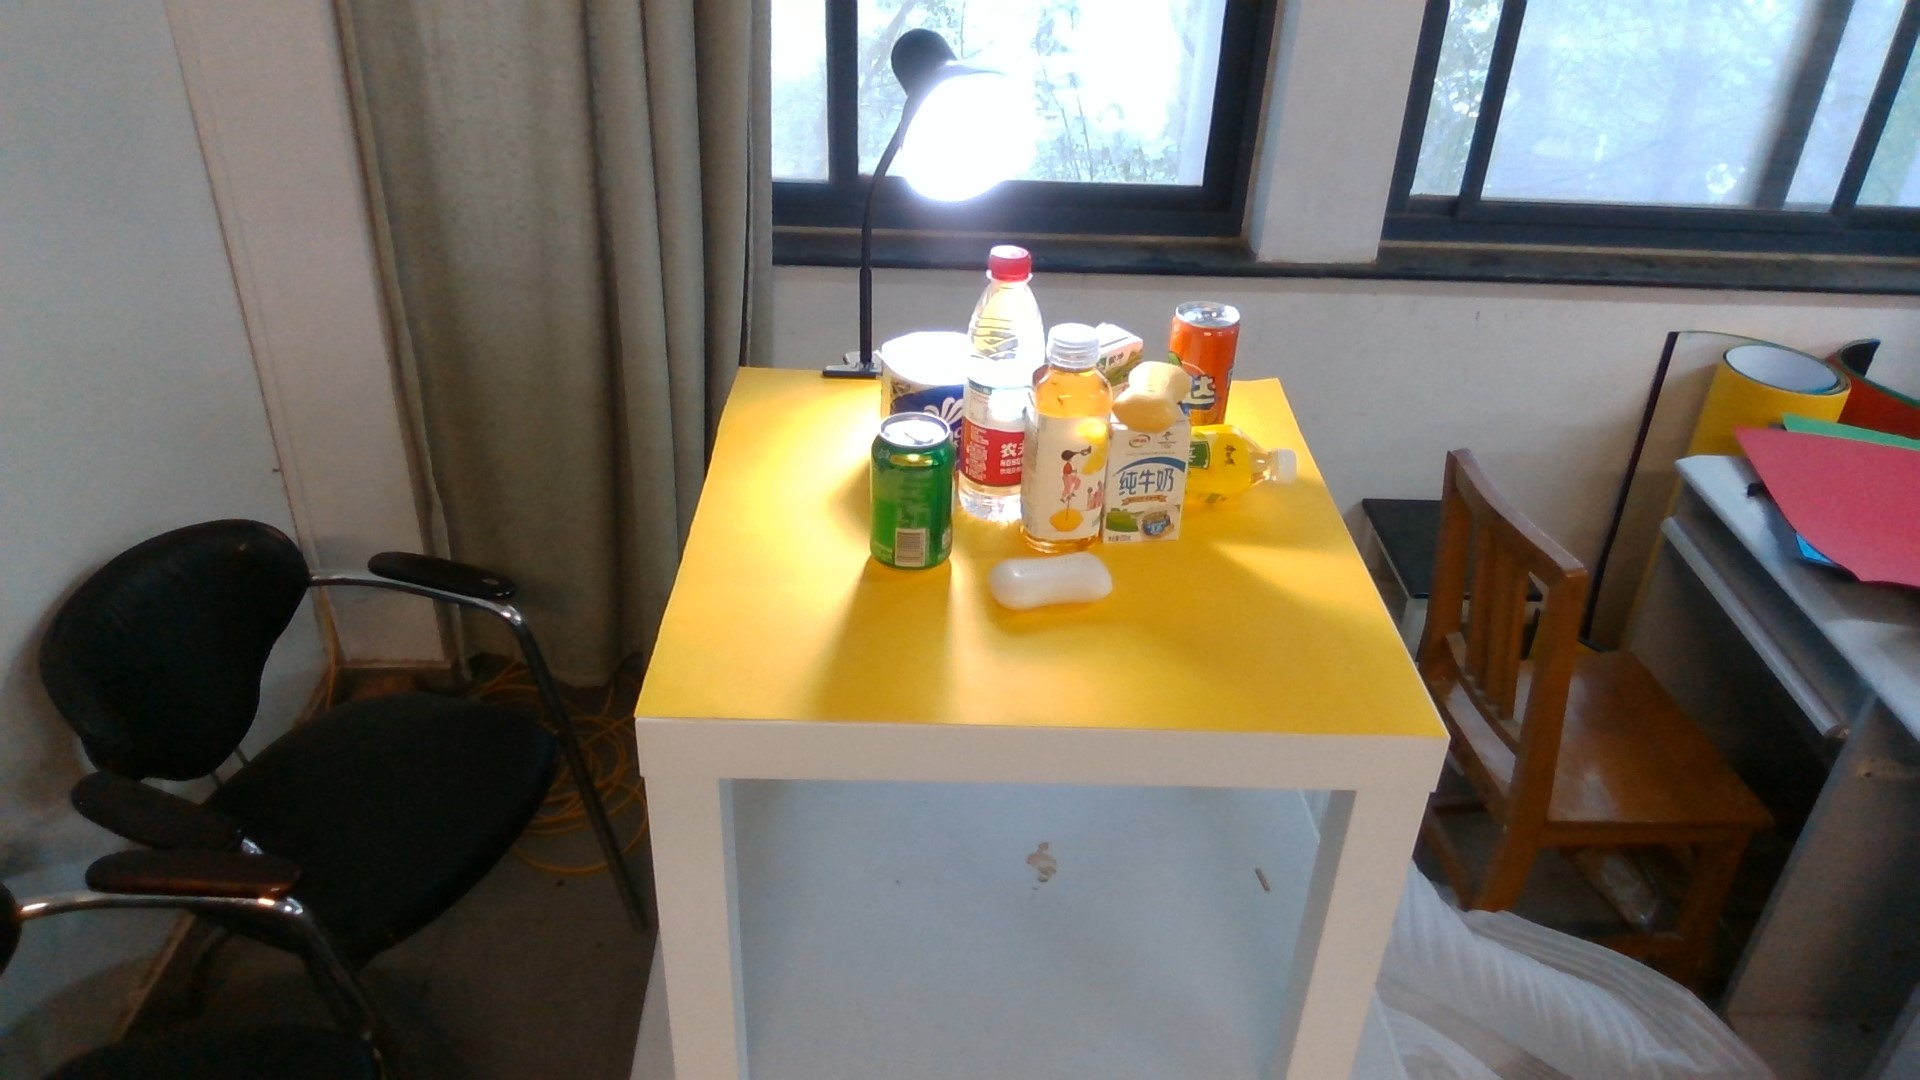BB003: (988, 555, 1109, 609), (1120, 357, 1188, 430)
BB009: (1102, 320, 1130, 385)
BB013: (1102, 430, 1180, 545)
CA002: (876, 327, 968, 410)
ZC001: (873, 413, 957, 568)
ZC003: (1189, 295, 1244, 427)
ZC011: (1184, 425, 1298, 513)
ZC012: (1025, 320, 1105, 553)
ZC014: (971, 245, 1025, 527)
